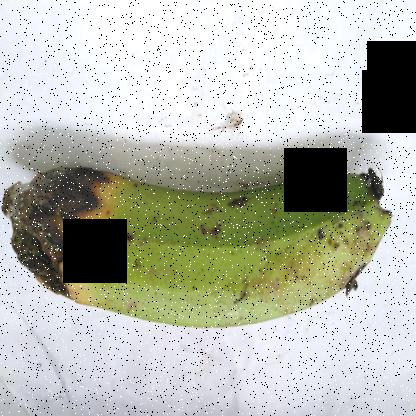unripe: (118, 155, 394, 341)
